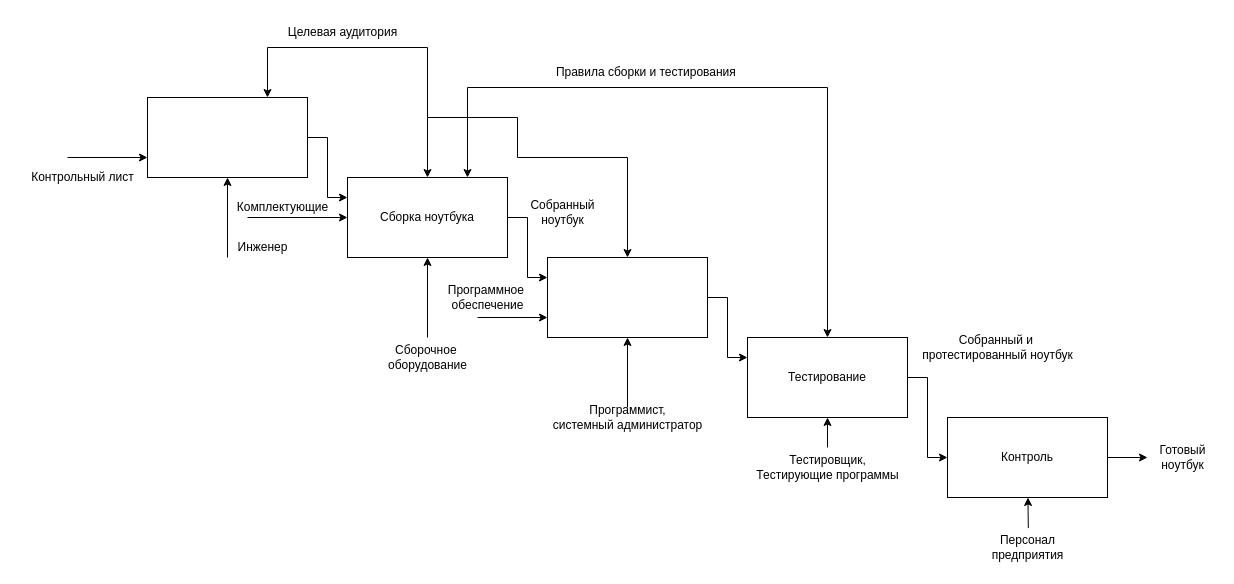
Some shapes in this 1234 by 584 pixel diagram are drawn without their labels. The shapes that lost their labels are listed below. From the top down, each one's centre as x and y in pixels, then its label:
At (x=227, y=137): "Поиск комплектующих".
At (x=627, y=297): "Установка ПО".
